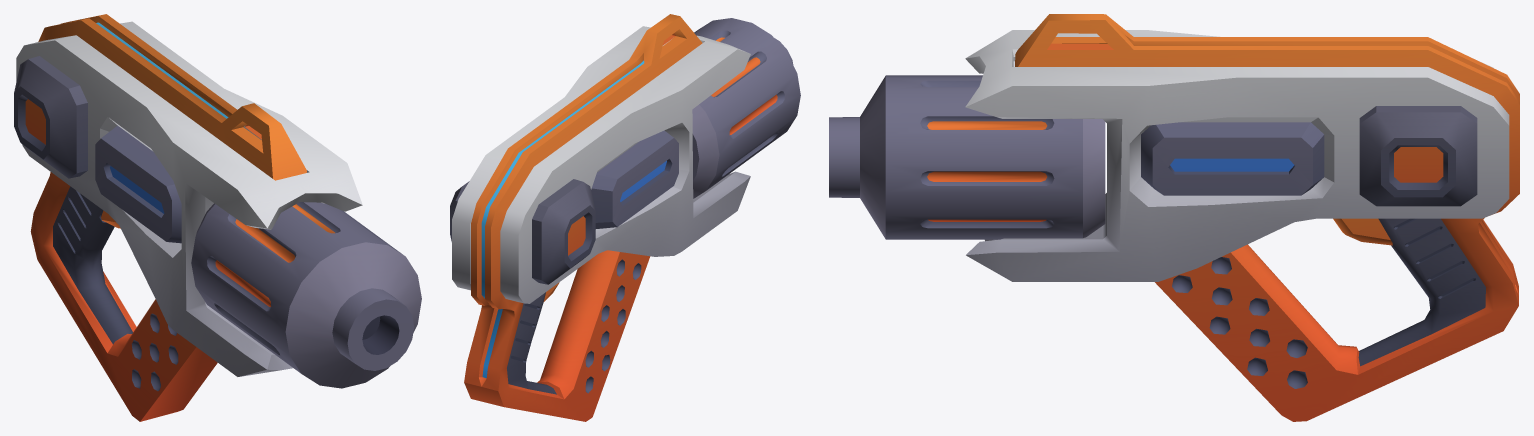
File: Pistol E.fbx
The picture shows the model from 3 angles, left to right: view 1: azimuth 30°, elevation 25°; view 2: azimuth 150°, elevation 25°; view 3: azimuth 270°, elevation 25°; orthographic projection. The views are drawn at different scales.
Parts seen in each view (by area): view 1: Pistol E, Pistol E.001; view 2: Pistol E, Pistol E.001; view 3: Pistol E, Pistol E.001.
Part boxes in pixels (x1=…): Pistol E: x1=14, y1=14, x2=362, y2=421; Pistol E.001: x1=191, y1=202, x2=421, y2=388; Pistol E: x1=450, y1=14, x2=750, y2=421; Pistol E.001: x1=692, y1=18, x2=800, y2=198; Pistol E: x1=965, y1=14, x2=1519, y2=421; Pistol E.001: x1=829, y1=75, x2=1105, y2=239.
Bounding box in the file's own units: 0.203 × 0.5374 × 0.8516.
